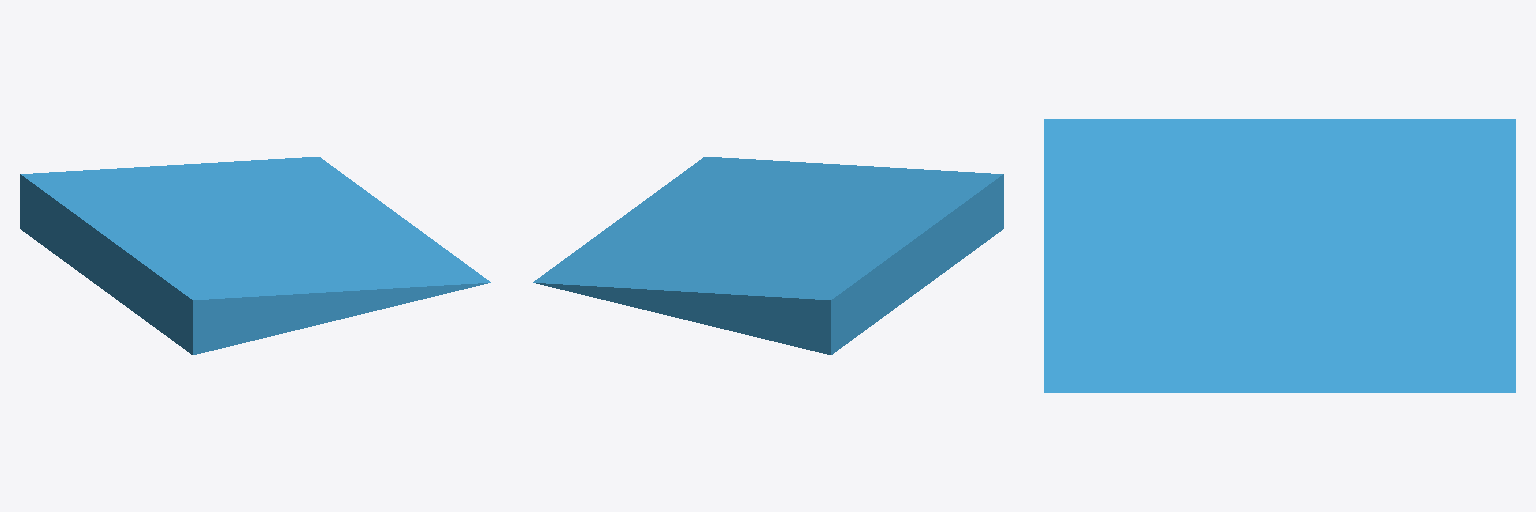
The robot description file, URDF, robot "Y_positive_10":
<?xml version="1.0" ?>
<robot name="Y_positive_10">
<!-- Used for fixing robot to Gazebo 'base_link' -->

<link name="world"/>

  <joint name="fixed" type="fixed">
    <parent link="world"/>
    <child link="Y_positive_10__link"/>
  </joint>

  <link name="Y_positive_10__link">
    <inertial>
      <mass value="10"/>
      <inertia ixx="1.0" ixy="0.0" ixz="0.0" iyy="1.0" iyz="0.0" izz="1.0"/>
    </inertial>
    <collision>
      <geometry>
         <mesh filename="package://pal_gazebo_worlds/models/Y_positive_10/meshes/10_degree_slope.stl" scale="0.00999 0.00999 0.00999"/>
      </geometry>
      <surface>
        <friction>
          <ode>
            <mu1 value="1.0" />
            <mu2 value="1.0" />
            <kp  value="1e5" />
            <kd  value="1e2" />
            <maxVel  value="100.0" />
            <minDepth  value="0.0" />
            <dampingFactor>0.01</dampingFactor>
          </ode>
        </friction>
      </surface>
    </collision>
    <visual>
      <geometry>
        <mesh filename="package://pal_gazebo_worlds/models/Y_positive_10/meshes/10_degree_slope.stl" scale="0.00999 0.00999 0.00999"/>
      </geometry>
      <material name="white">
      </material>
    </visual>
  </link>



</robot>

--- What the picture shows (computed from the rendered views, not written in the file) ---
3 views of the same robot in one strip: view 1: azimuth 30°, elevation 25°; view 2: azimuth 150°, elevation 25°; view 3: azimuth 270°, elevation 25° (orthographic).
Robot: Y_positive_10 — 2 links, 1 joints (1 fixed); root link world; default pose: all joints at 0.
Visible links, largest first — view 1: Y_positive_10__link; view 2: Y_positive_10__link; view 3: Y_positive_10__link.
Boxes of the visible links, <box> form: Y_positive_10__link: <box>20,157,490,354</box>; Y_positive_10__link: <box>533,157,1003,354</box>; Y_positive_10__link: <box>1044,119,1515,392</box>.
Bounding box of the posed robot: 0.3996 × 0.3996 × 0.0705 m (x, y, z).
Meshes: 1 distinct files referenced, 1 mesh visuals loaded (1 binary STL).